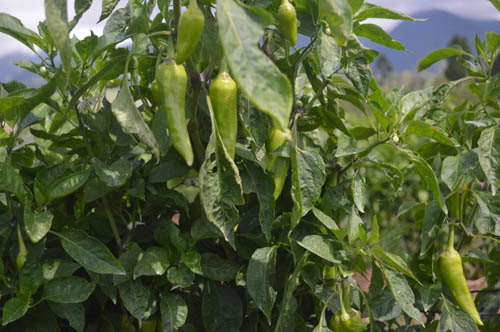ChiliPepper: (158, 65, 193, 164), (441, 250, 486, 324), (210, 78, 242, 159), (173, 8, 206, 67), (268, 129, 290, 196), (279, 6, 301, 46)
